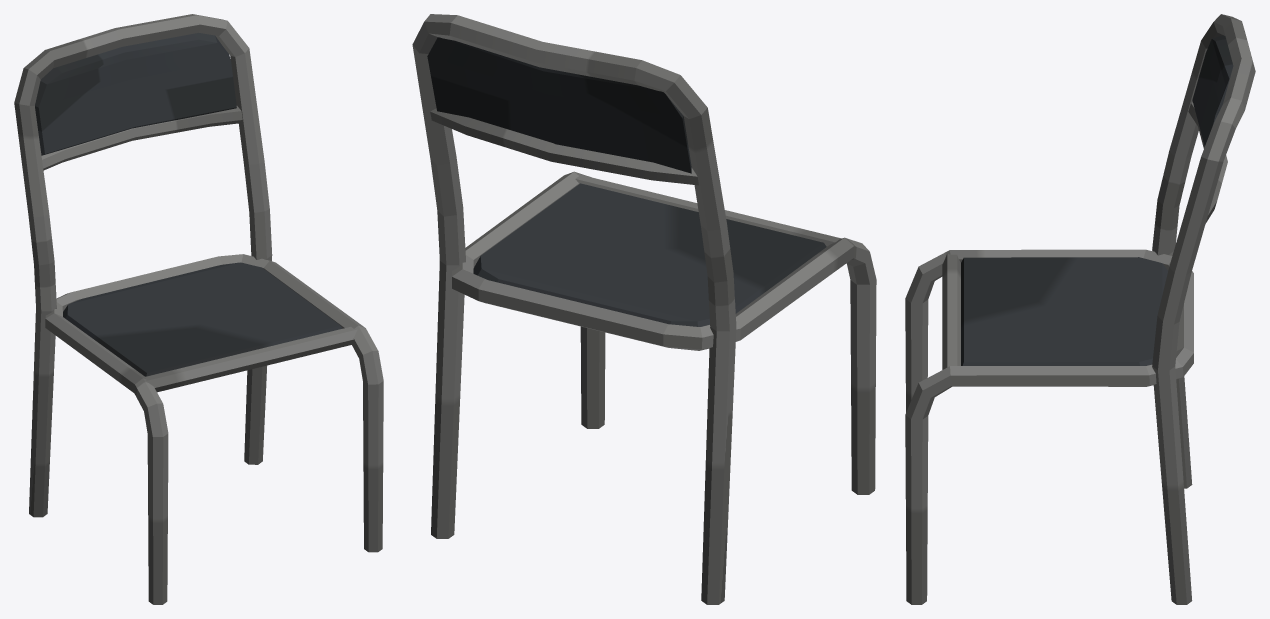
Rendered from SM_Prop_Chair_01.glb.
3 views of the same model, side by side, from view 1: azimuth 30°, elevation 25°; view 2: azimuth 150°, elevation 25°; view 3: azimuth 270°, elevation 25° (orthographic). The views are drawn at different scales.
Visible parts, largest first — view 1: SM_Prop_Chair_01; view 2: SM_Prop_Chair_01; view 3: SM_Prop_Chair_01.
Part boxes in pixels (box(x1,y1,x2,y2)): SM_Prop_Chair_01: box(14, 14, 383, 604); SM_Prop_Chair_01: box(412, 14, 876, 604); SM_Prop_Chair_01: box(905, 14, 1255, 604).
Bounding box in the file's own units: 0.5344 × 0.9716 × 0.6346.
Materials: 1 (1 with a texture image).
